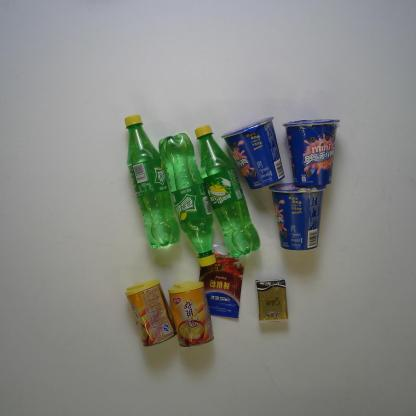Canned Food: (123, 278, 177, 348), (167, 279, 216, 348)
Dessert: (220, 114, 285, 190), (267, 181, 328, 252), (281, 116, 340, 189)
Drink: (194, 124, 262, 258), (157, 132, 217, 268), (124, 113, 181, 249)
Seasoner: (196, 241, 246, 319)
Tissue: (254, 278, 289, 323)
